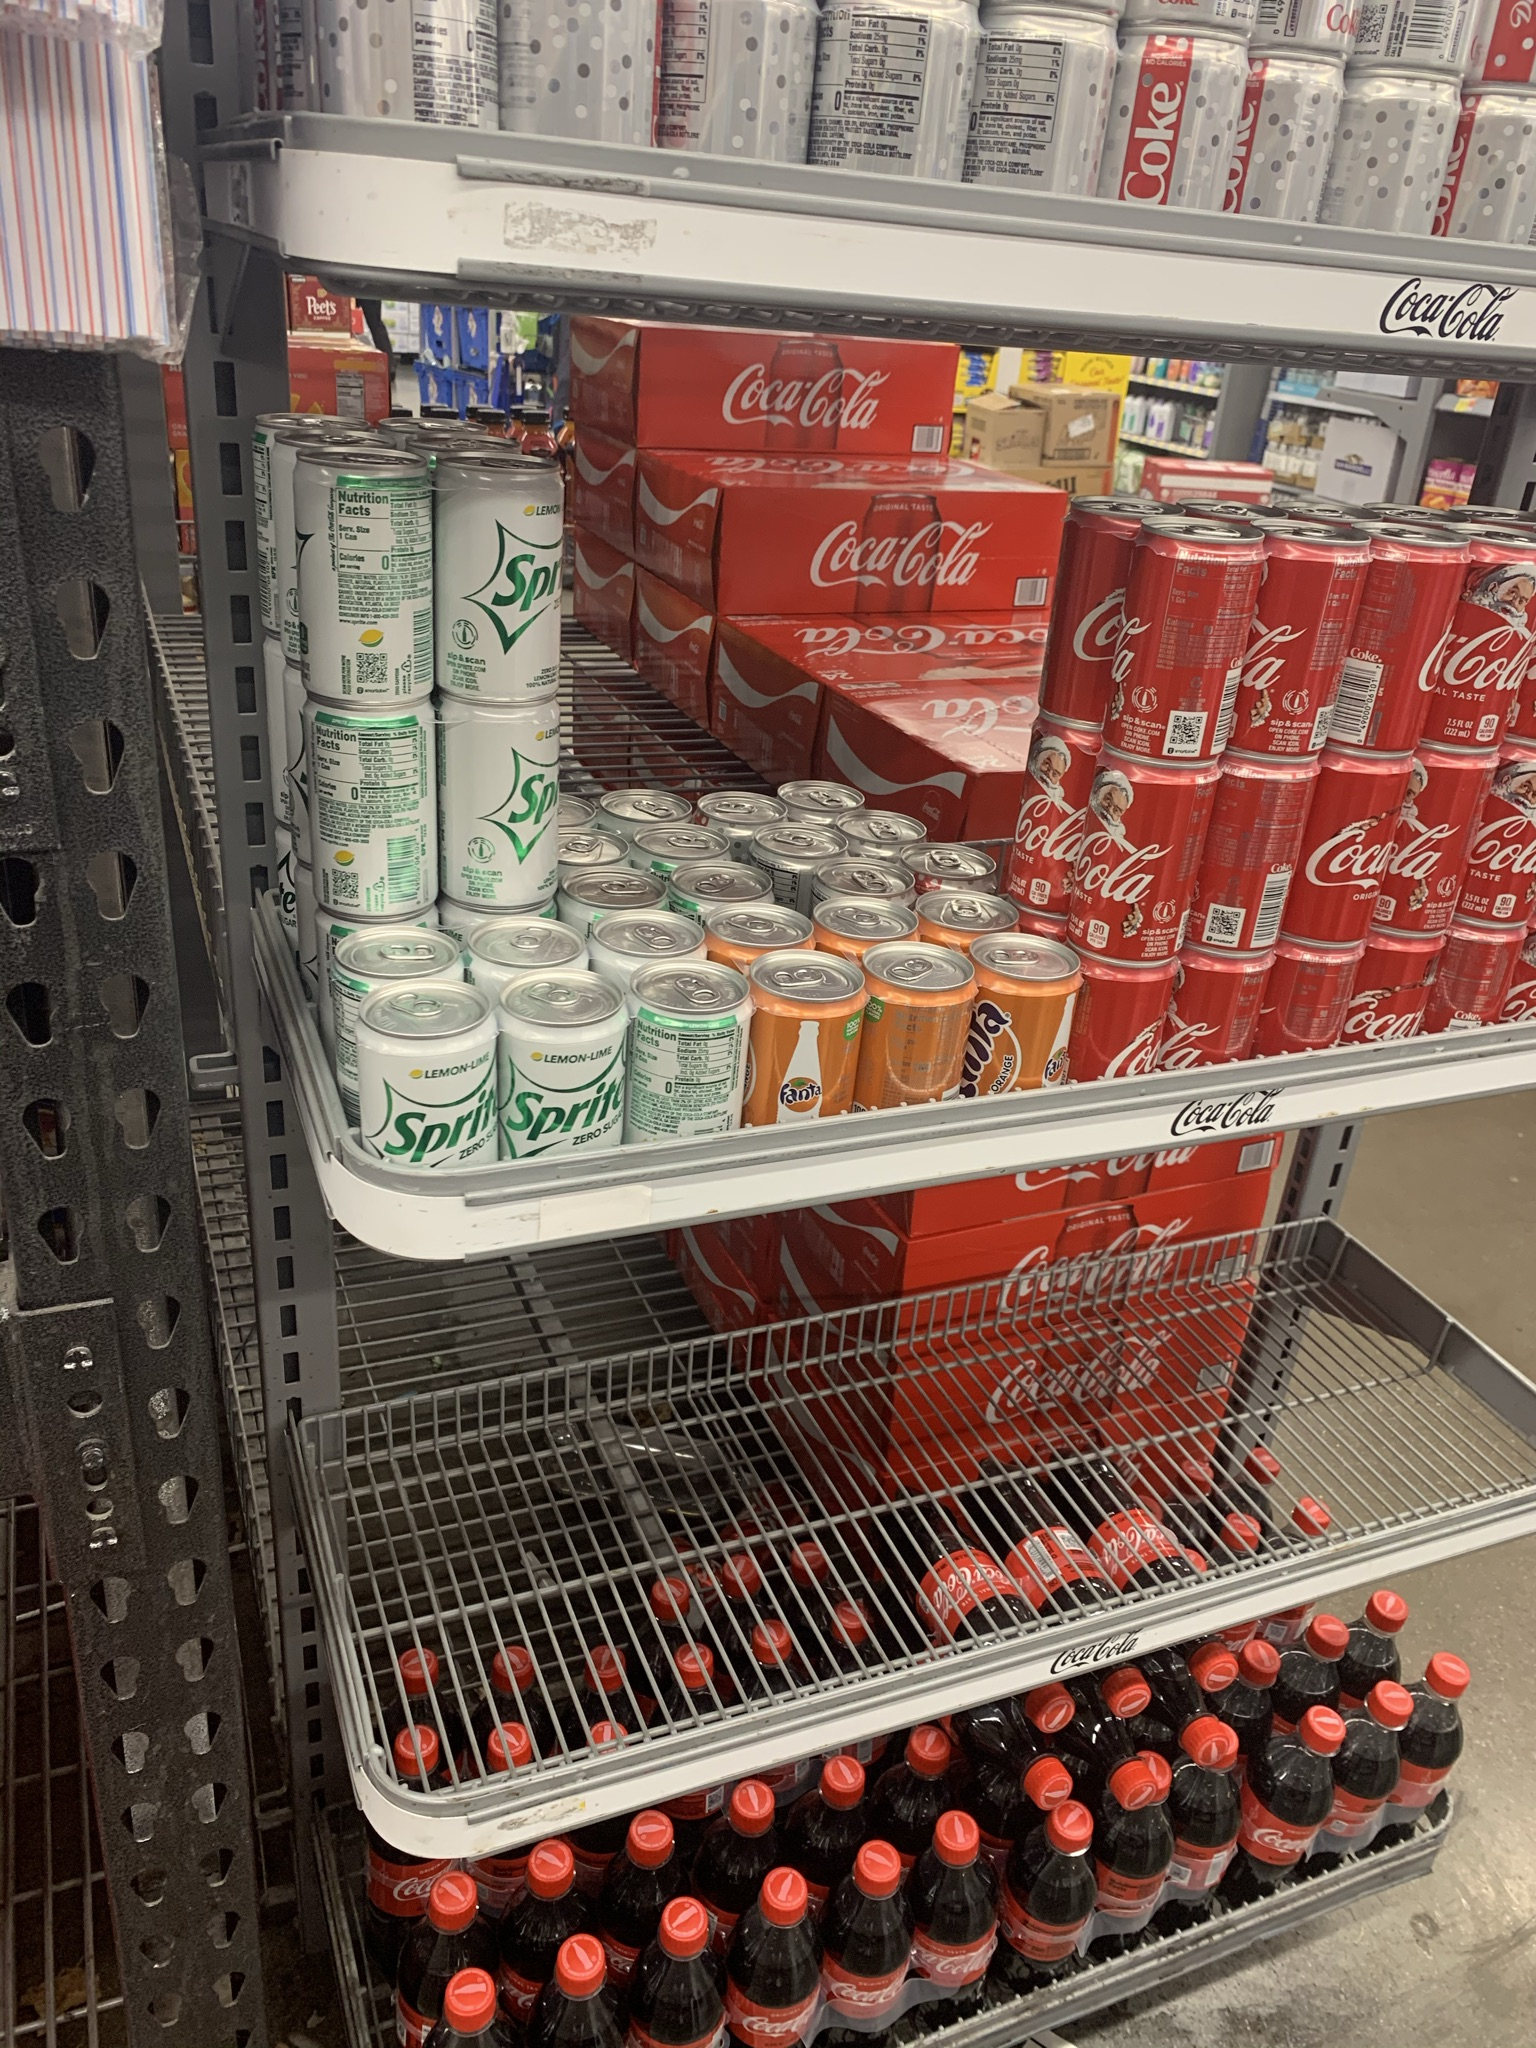box: (636, 332, 957, 456), (728, 493, 1049, 610)
can: (297, 455, 436, 703), (432, 455, 563, 705), (307, 703, 442, 921), (357, 992, 497, 1171), (1113, 19, 1241, 211), (440, 705, 557, 906), (502, 972, 626, 1158), (824, 19, 971, 174), (632, 959, 753, 1147), (1336, 61, 1455, 234), (757, 947, 863, 1122), (679, 8, 807, 153), (1141, 552, 1233, 740), (1241, 44, 1338, 223), (871, 935, 970, 1103), (992, 18, 1086, 194), (1097, 769, 1184, 953), (981, 932, 1078, 1092), (1367, 547, 1428, 747), (1275, 548, 1333, 751), (1318, 780, 1383, 942), (1221, 776, 1279, 943), (1473, 547, 1513, 760), (1412, 772, 1463, 926)
